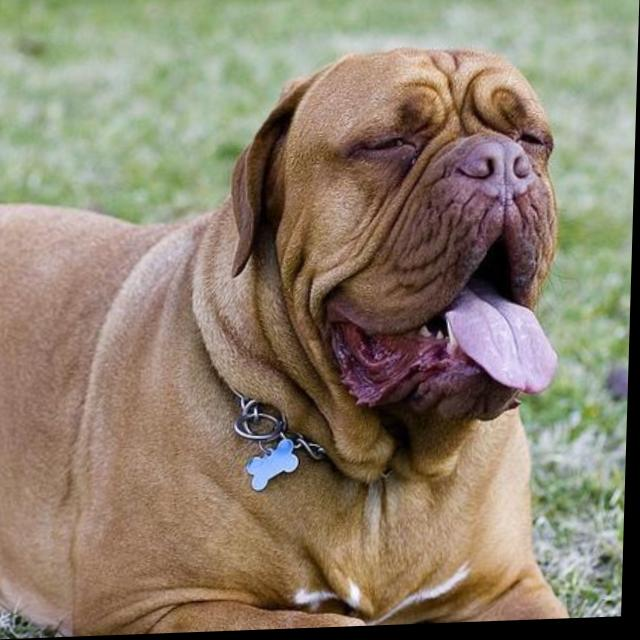bullmastiff: (1, 42, 640, 640)
